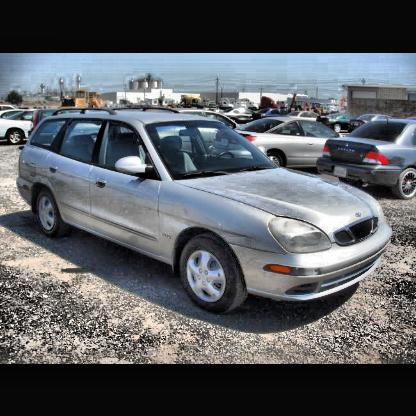Daewoo Nubira Wagon 2002: (18, 108, 393, 311)
